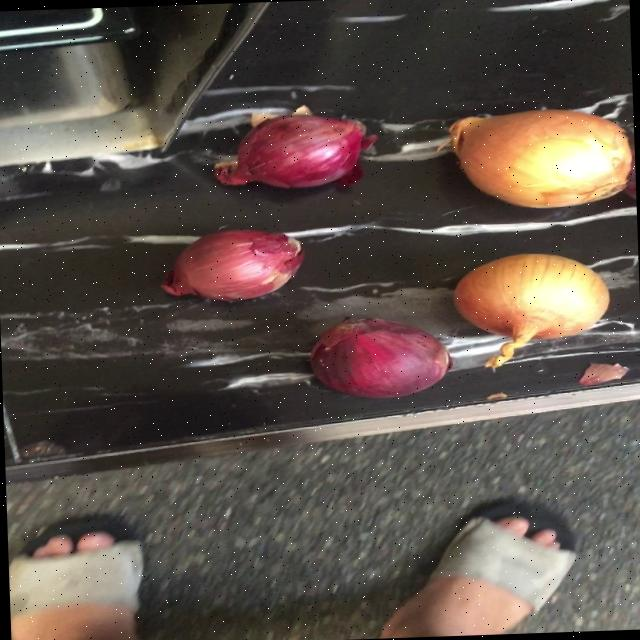Onion: (450, 109, 632, 207), (454, 253, 608, 367), (213, 105, 376, 187), (310, 318, 450, 398), (159, 229, 302, 300)
